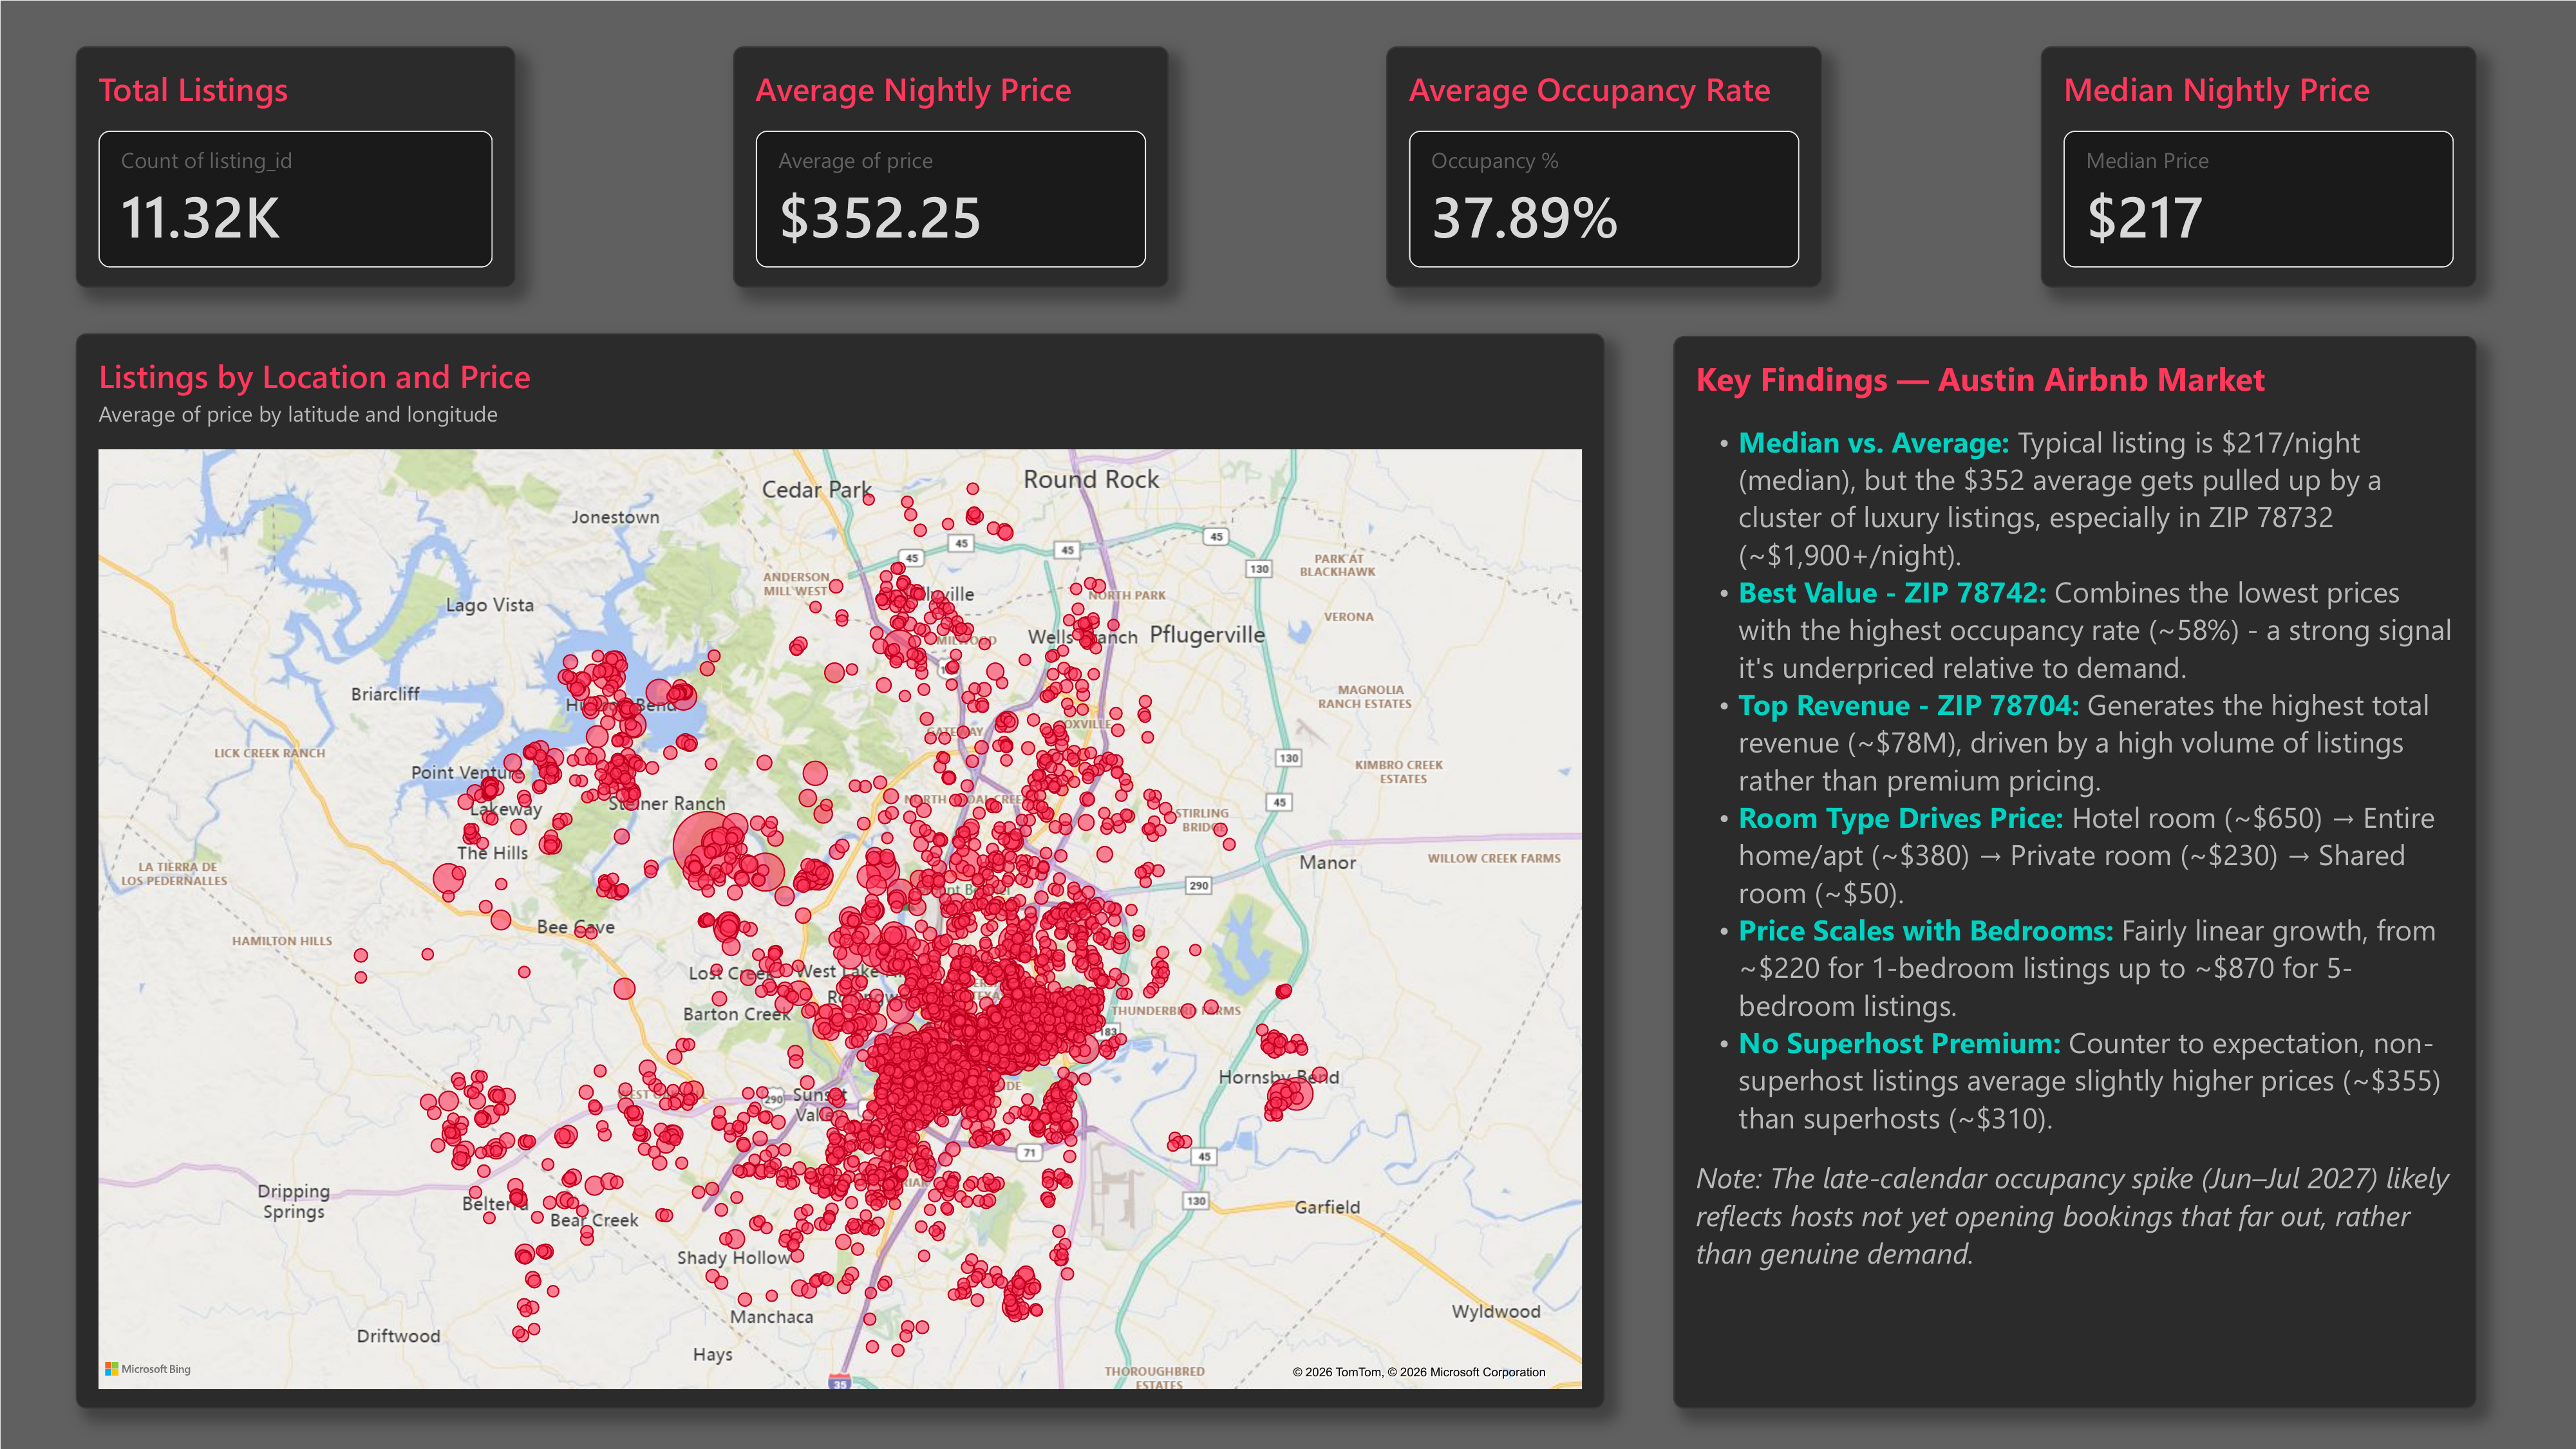

The page's visual inventory and layout, read from the dashboard file:
{"tool":"powerbi","page":{"name":"Overview","canvas":[1920,1080],"ordinal":0},"visuals":[{"type":"cardVisual","title":"Total Listings","fields":{"Data":["Count(public calendar_clean.listing_id)"]},"box":[56.1,34.4,327.5,179.2],"z":0},{"type":"cardVisual","title":"Average Nightly Price","fields":{"Data":["Avg(public listings_clean.price)"]},"box":[546.1,34.4,325,180],"z":1000},{"type":"cardVisual","title":"Average Occupancy Rate","fields":{"Data":["public calendar_clean.Occupancy %"]},"box":[1033.5,34.4,325,180],"z":2000},{"type":"map","title":"Listings by Location and Price","fields":{"Size":["Avg(public listings_clean.price)"],"X":["public listings_clean.longitude"],"Y":["public listings_clean.latitude"]},"box":[56.1,247.9,1140.1,801.7],"z":3000},{"type":"cardVisual","title":"Median Nightly Price","fields":{"Data":["public listings_clean.Median Price"]},"box":[1520.9,34.4,325,180],"z":4000},{"type":"textbox","box":[1246.9,249.7,599,799.9],"z":5000}]}

Visuals, with their boxes in screenshot pixels (x1, y1, x2, y2), scaled from the page's 1920x1080 canvas onto the 2576x1449 screenshot:
"Total Listings" cardVisual: 75:46:514:286
"Average Nightly Price" cardVisual: 733:46:1169:288
"Average Occupancy Rate" cardVisual: 1387:46:1823:288
"Listings by Location and Price" map: 75:333:1605:1408
"Median Nightly Price" cardVisual: 2040:46:2477:288
textbox: 1673:335:2477:1408
